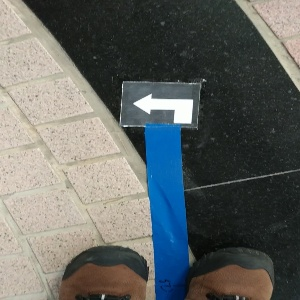left: (119, 80, 199, 128)
